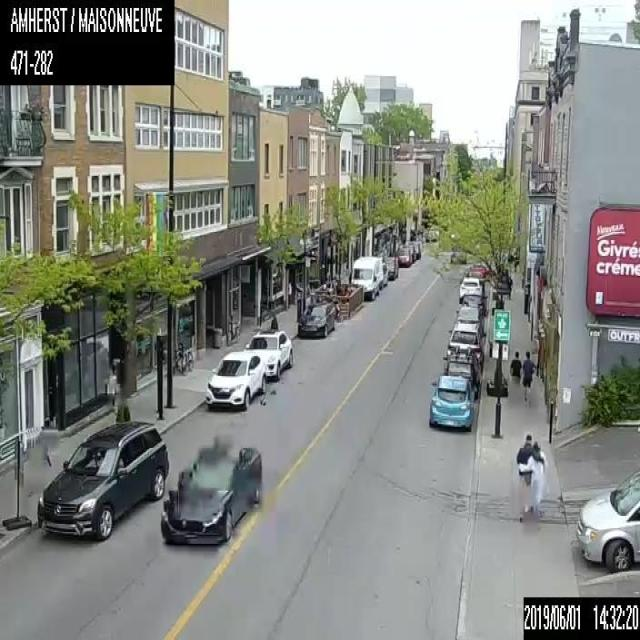construction: (1, 437, 32, 530)
pedestrian: (514, 432, 546, 520), (518, 441, 550, 520), (507, 349, 521, 408), (520, 350, 534, 409), (269, 311, 279, 329)
vehicle: (36, 416, 168, 541), (160, 441, 262, 547), (575, 467, 639, 569), (204, 348, 267, 411), (244, 329, 294, 380), (429, 374, 473, 428), (443, 350, 481, 400), (445, 323, 485, 368), (296, 299, 334, 341), (348, 256, 382, 298), (455, 305, 484, 333), (458, 276, 482, 303), (462, 294, 487, 316), (465, 270, 484, 294), (383, 256, 398, 279), (396, 247, 411, 266), (424, 227, 436, 241), (382, 261, 388, 287)
